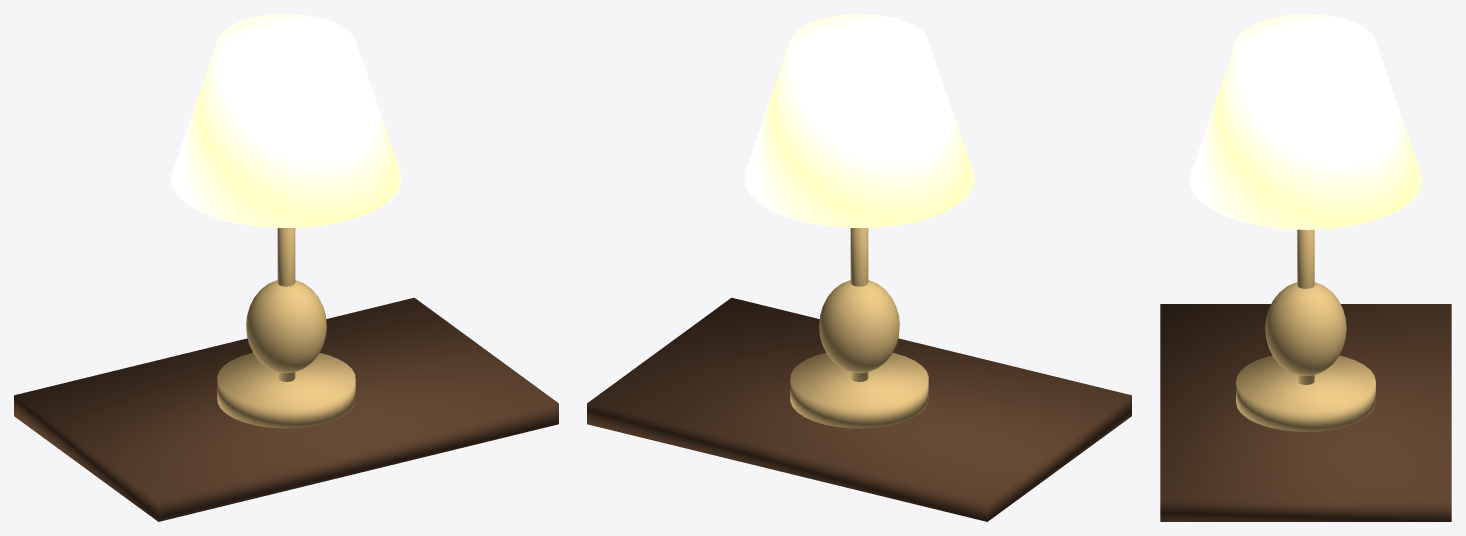
The model's file is lamp.glb.
3 renders of one model, left to right at view 1: azimuth 30°, elevation 25°; view 2: azimuth 150°, elevation 25°; view 3: azimuth 270°, elevation 25°, orthographic.
Parts seen in each view (by area): view 1: table, shade, base, belly, stem; view 2: table, shade, base, belly, stem; view 3: table, shade, base, belly, stem.
Boxes of the visible parts, x1,y1,x2,y2 form: table: (14,297,558,521); shade: (171,14,401,227); base: (217,353,355,428); belly: (246,280,326,373); stem: (277,228,295,381); table: (587,297,1131,521); shade: (744,14,974,227); base: (790,353,928,428); belly: (819,280,899,373); stem: (850,228,868,381); table: (1160,304,1451,521); shade: (1189,14,1422,229); base: (1236,355,1375,431); belly: (1265,282,1346,375); stem: (1297,229,1314,384).
Size of what is drawn, in the model's own units: 0.8 by 0.72 by 0.5.
